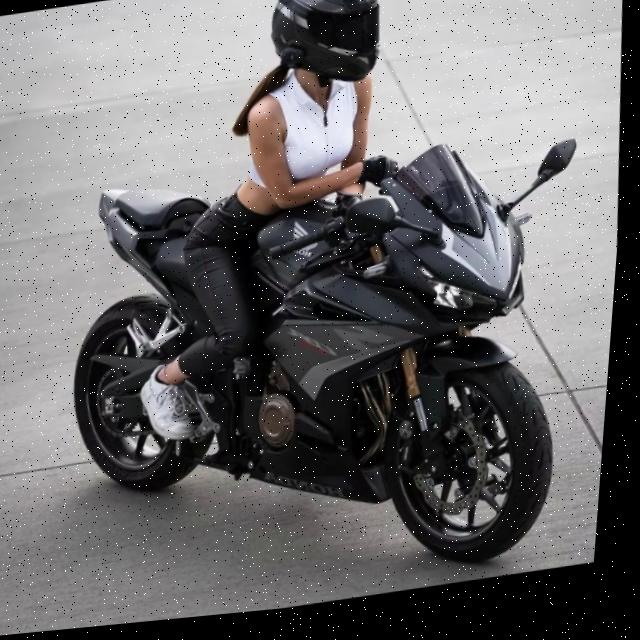helmet: (262, 0, 393, 104)
